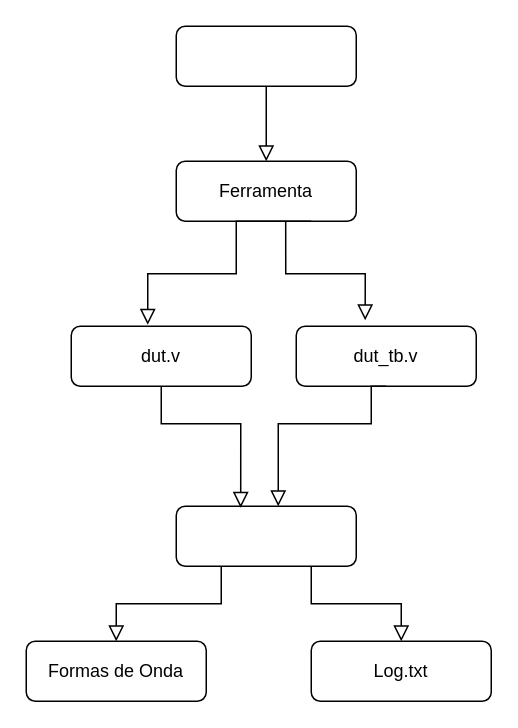
The diagram is 518 pixels wide and 728 high, and some of its shapes have lost their labels. The centre of each missing label's shape, as x and y in pixels:
Simulador: [265,535]
Tabela-Verdade: [265,55]
